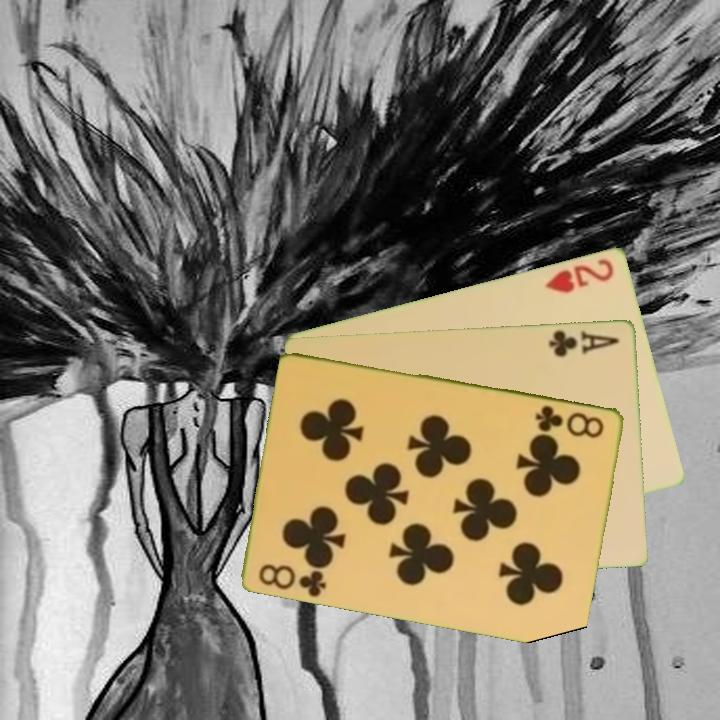2h: (542, 254, 617, 295)
8c: (532, 401, 607, 441), (255, 560, 330, 600)
Ac: (546, 326, 623, 359)
